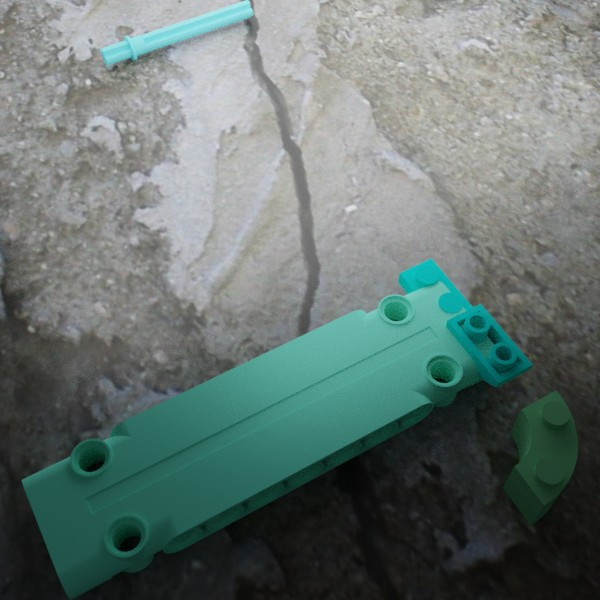lego: (21, 280, 502, 600), (398, 258, 532, 387), (502, 390, 578, 525), (100, 0, 253, 65)
